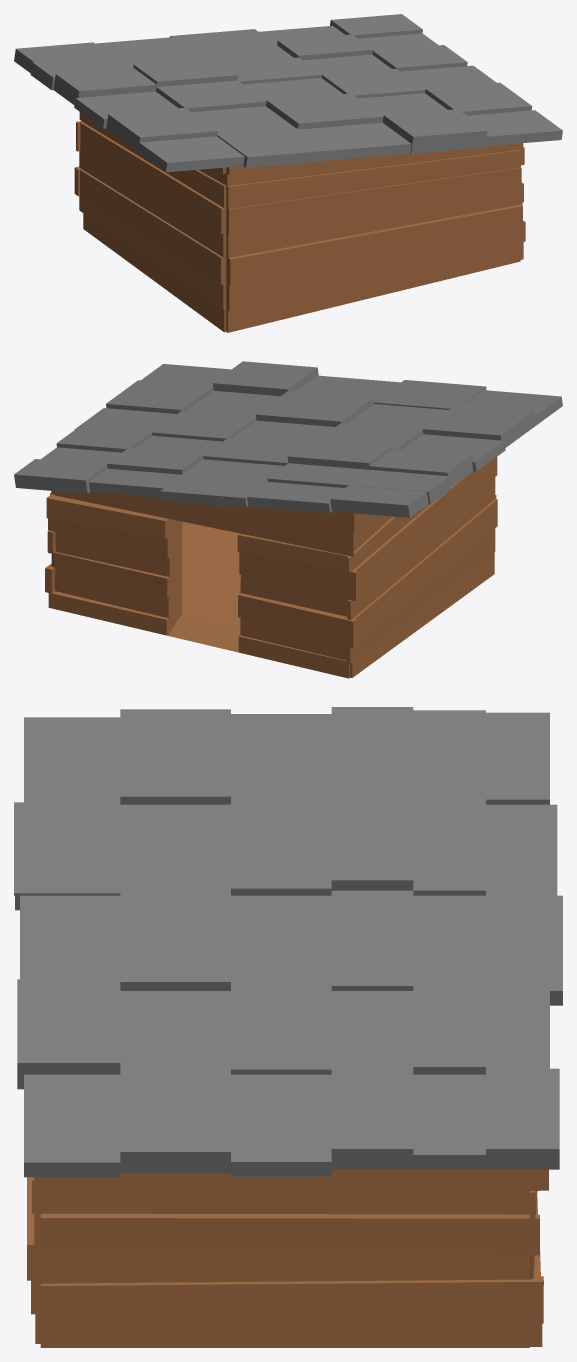
File: Cabin.fbx
3 views of the same model, one above another, from view 1: azimuth 30°, elevation 25°; view 2: azimuth 150°, elevation 25°; view 3: azimuth 270°, elevation 25° (orthographic). The views are drawn at different scales.
Visible parts, largest first — view 1: Cube, Plane; view 2: Cube, Plane; view 3: Plane, Cube.
Boxes of the visible parts, left/top/right/bottom form: Cube: left=74, top=112, right=525, bottom=332; Plane: left=14, top=14, right=562, bottom=172; Cube: left=45, top=457, right=497, bottom=678; Plane: left=14, top=361, right=562, bottom=517; Plane: left=14, top=707, right=562, bottom=1177; Cube: left=27, top=1169, right=548, bottom=1347.
Size of the model in its own units: 1219 by 566 by 837.
